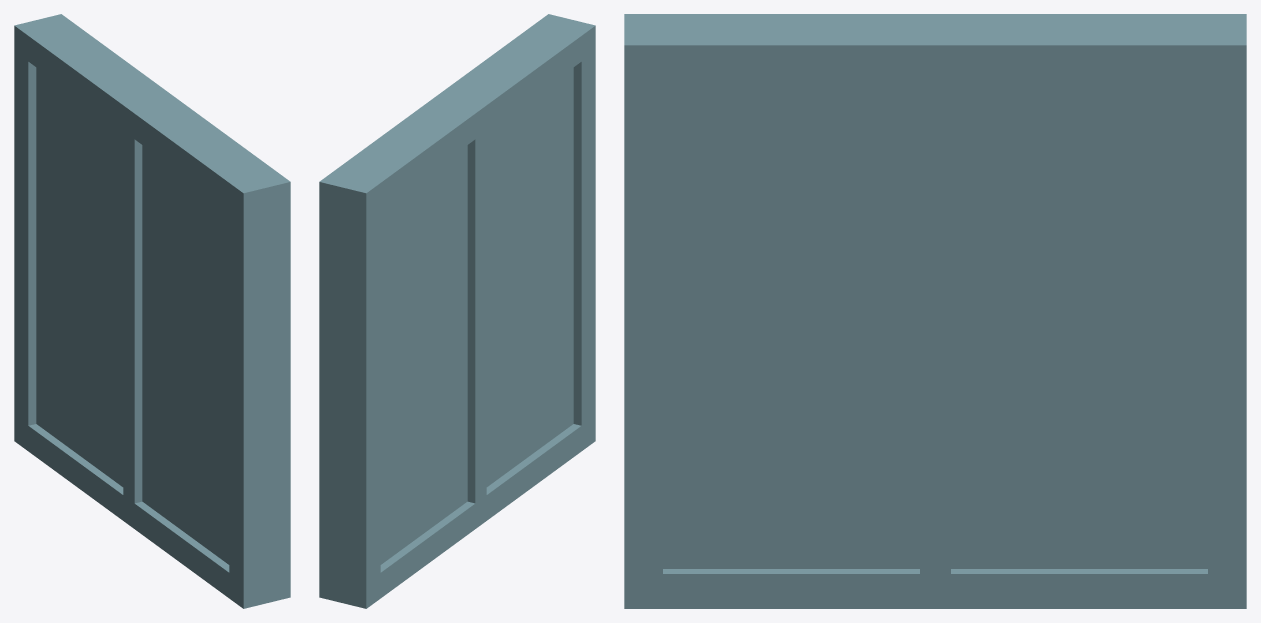
The model's file is bim-component-basichouse-ifcwindow-02.meshopt.glb.
The picture shows the model from 3 angles, left to right: view 1: azimuth 30°, elevation 25°; view 2: azimuth 150°, elevation 25°; view 3: azimuth 270°, elevation 25°; orthographic projection. The views are drawn at different scales.
Parts seen in each view (by area): view 1: IfcWindow_18813; view 2: IfcWindow_18813; view 3: IfcWindow_18813.
Boxes of the visible parts, x1=… form: IfcWindow_18813: x1=14, y1=14, x2=290, y2=608; IfcWindow_18813: x1=319, y1=14, x2=595, y2=608; IfcWindow_18813: x1=624, y1=14, x2=1246, y2=608.
Bounding box in the file's own units: 0.2138 × 1.8 × 1.8.
